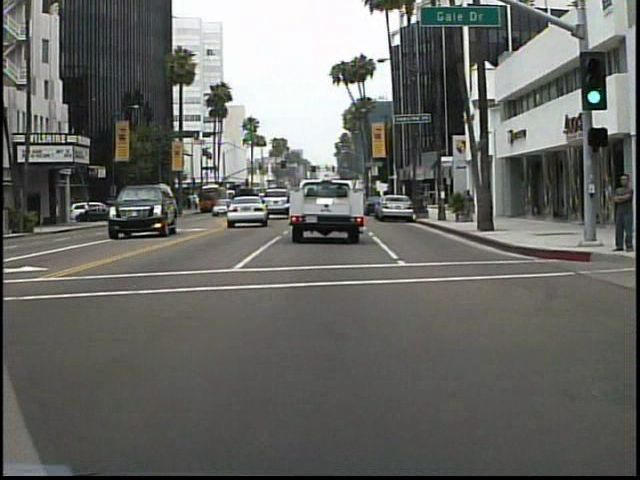person: (604, 166, 633, 257), (459, 184, 476, 220)
